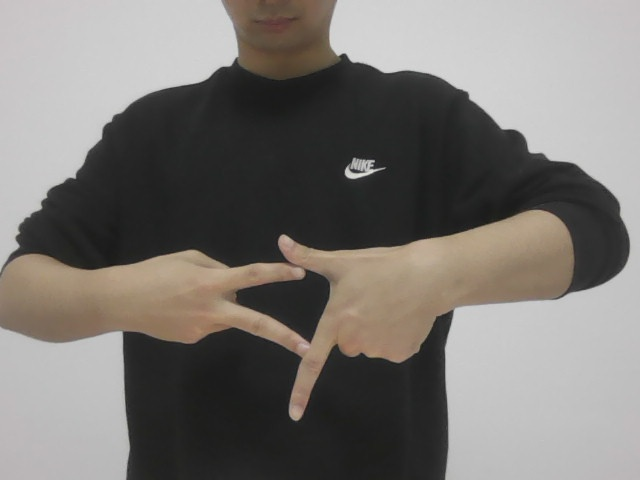introduce: (117, 239, 439, 417)
